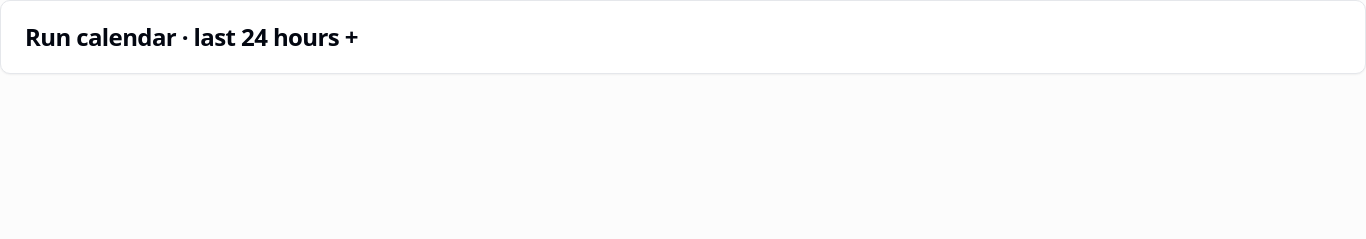
Test: explains a bounded calendar without an empty adapter error
The width and height of the screenshot is (1366, 239).
Click the button "Run calendar · last 24 hours +". click: (683, 37)
box: [25,25,1341,49]
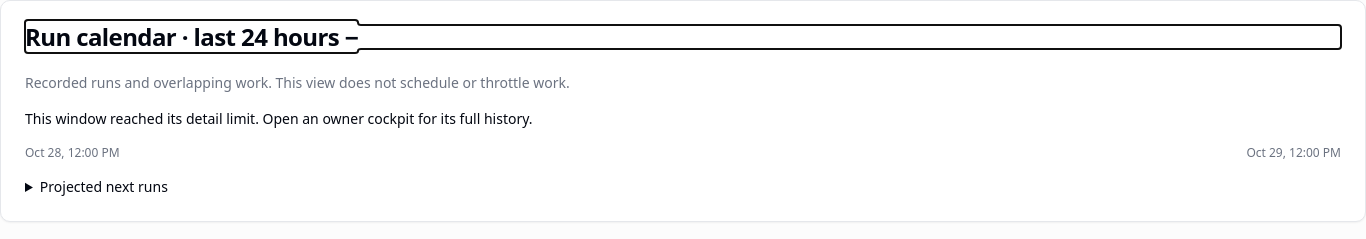
Now the text "This window reached its detail limit" is shown, box [25,109,532,128]
